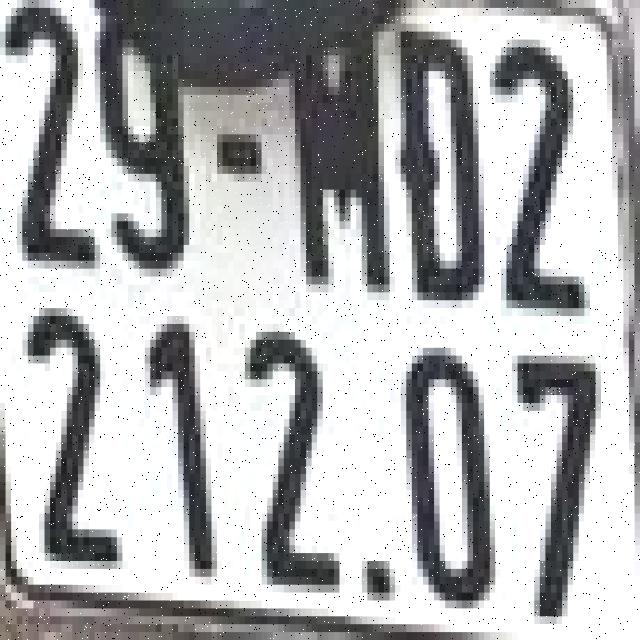0: (398, 340, 504, 608)
1: (145, 312, 228, 581)
2: (19, 300, 131, 569), (239, 320, 351, 589), (492, 36, 592, 312), (3, 0, 103, 269)
7: (512, 344, 601, 620)
9: (94, 4, 194, 273)
D: (392, 28, 487, 304)
M: (284, 16, 389, 292)
